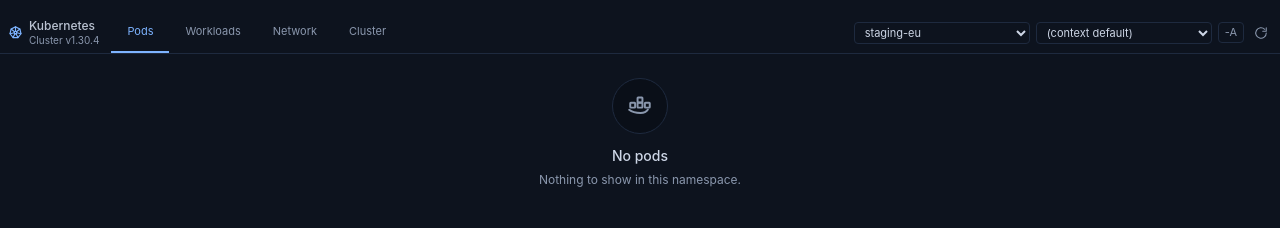
Test: K8sPanel — the route view › says the endpoints were not read when the cluster refuses the slices
The width and height of the screenshot is (1280, 228).
Click the button with test id "k8s-subtab-network": (295, 33) x1=257 y1=12 x2=333 y2=53
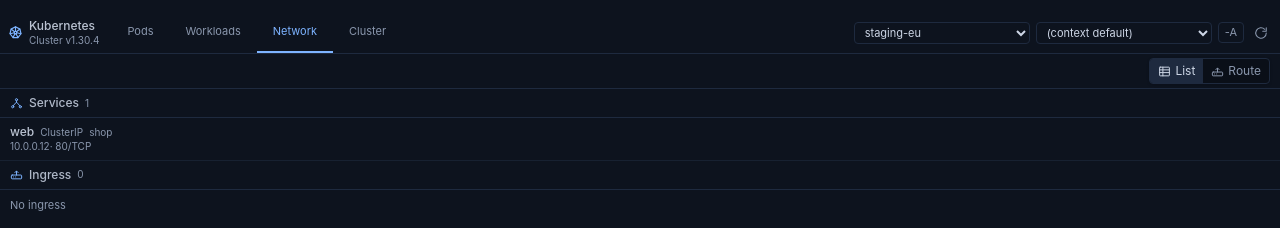
Click the button "Route": (1236, 71) x1=1203 y1=59 x2=1269 y2=83
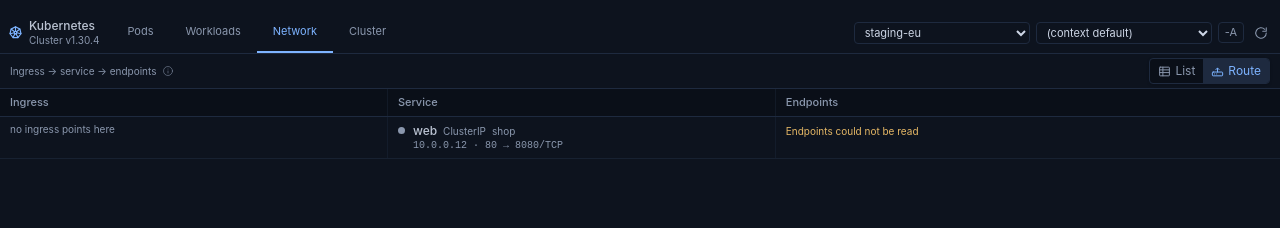
Expected: the text "Endpoints could not be read" is shown, x1=786 y1=125 x2=919 y2=137
